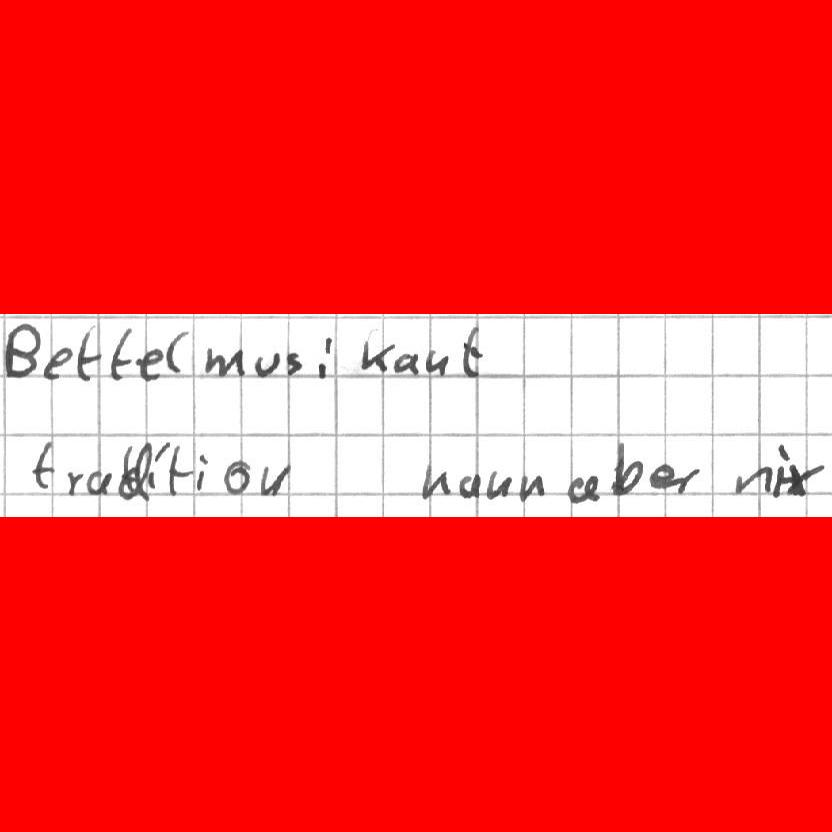Char: (2, 320, 41, 377), (610, 439, 644, 499), (75, 322, 103, 383), (458, 323, 486, 383), (203, 343, 247, 379), (109, 323, 134, 382), (732, 464, 773, 499), (118, 440, 141, 502), (792, 460, 826, 501), (141, 441, 167, 494), (258, 459, 293, 498), (359, 333, 392, 374), (31, 438, 55, 493), (421, 461, 451, 502), (167, 443, 190, 496), (165, 327, 189, 374), (566, 470, 599, 503), (42, 344, 72, 380), (221, 458, 250, 495), (136, 346, 163, 382), (773, 444, 790, 496), (674, 466, 702, 495), (314, 335, 332, 380), (424, 347, 450, 378), (486, 469, 512, 500), (519, 470, 545, 501), (648, 462, 674, 492), (253, 349, 279, 378), (458, 471, 483, 499), (393, 350, 421, 375), (87, 470, 113, 495), (285, 348, 306, 377), (196, 451, 210, 492), (65, 469, 85, 497)
